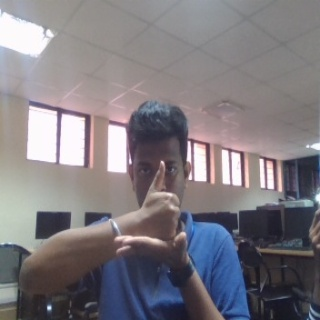Help: (112, 159, 191, 265)
